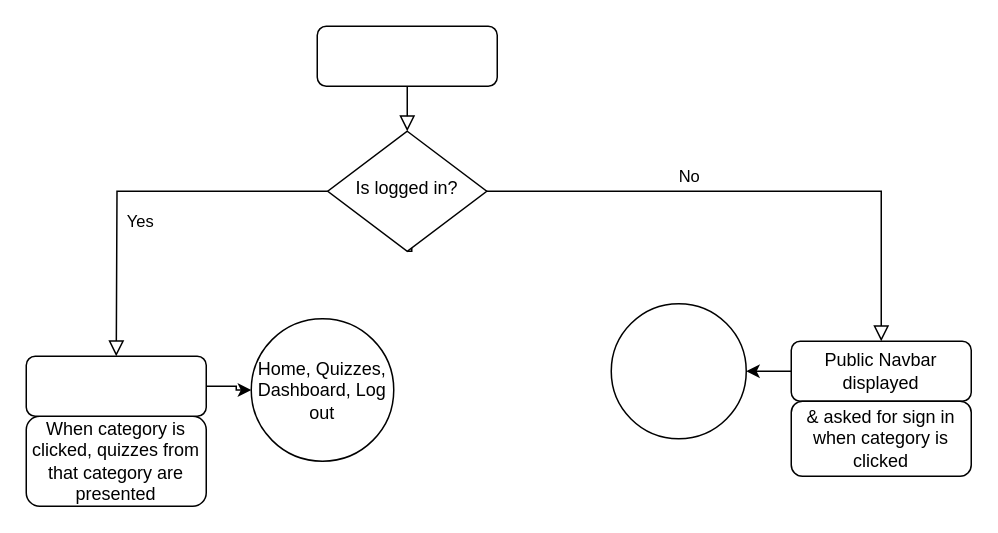
This 998x533 diagram has some shape labels left out. Each missing label, with the centre of its shape:
Home, Quizzes, Log in, Sign up: (x=678, y=370)
Homepage: (x=406, y=55)
Private Navbar displayed: (x=115, y=385)
